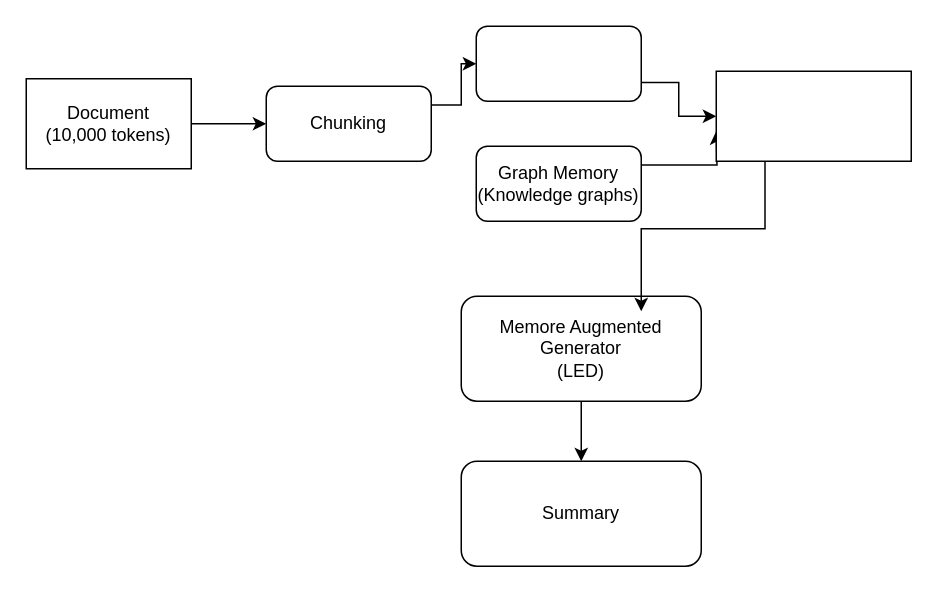
Image size: 938x593. Some labels were removed from this diagram. The shapes that lost their labels are listed below. From the top down, each one's centre as x and y in pixels, then its label:
the point at 558,63: Vector memory (FAISS)
the point at 813,115: Query based retrieval
